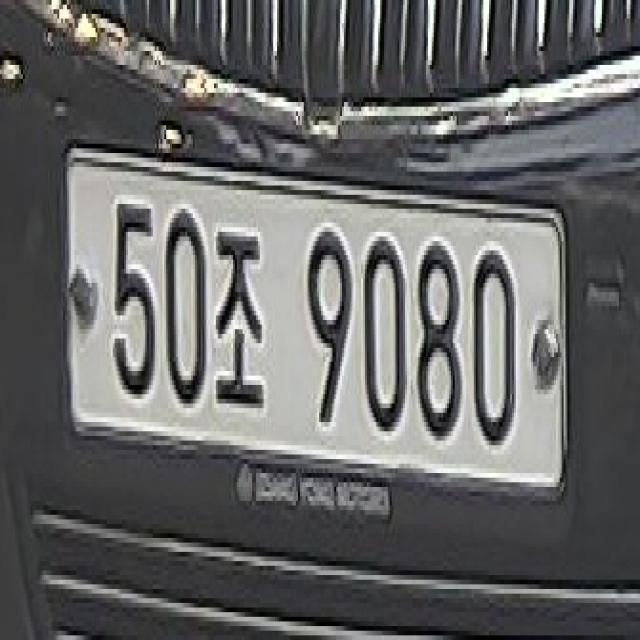0: (468, 233, 522, 460), (360, 223, 410, 448), (162, 201, 210, 415)
5: (108, 188, 160, 413)
8: (412, 228, 464, 452)
9: (302, 217, 354, 438)
jo: (212, 222, 276, 429)
license_plate: (51, 137, 574, 502)
